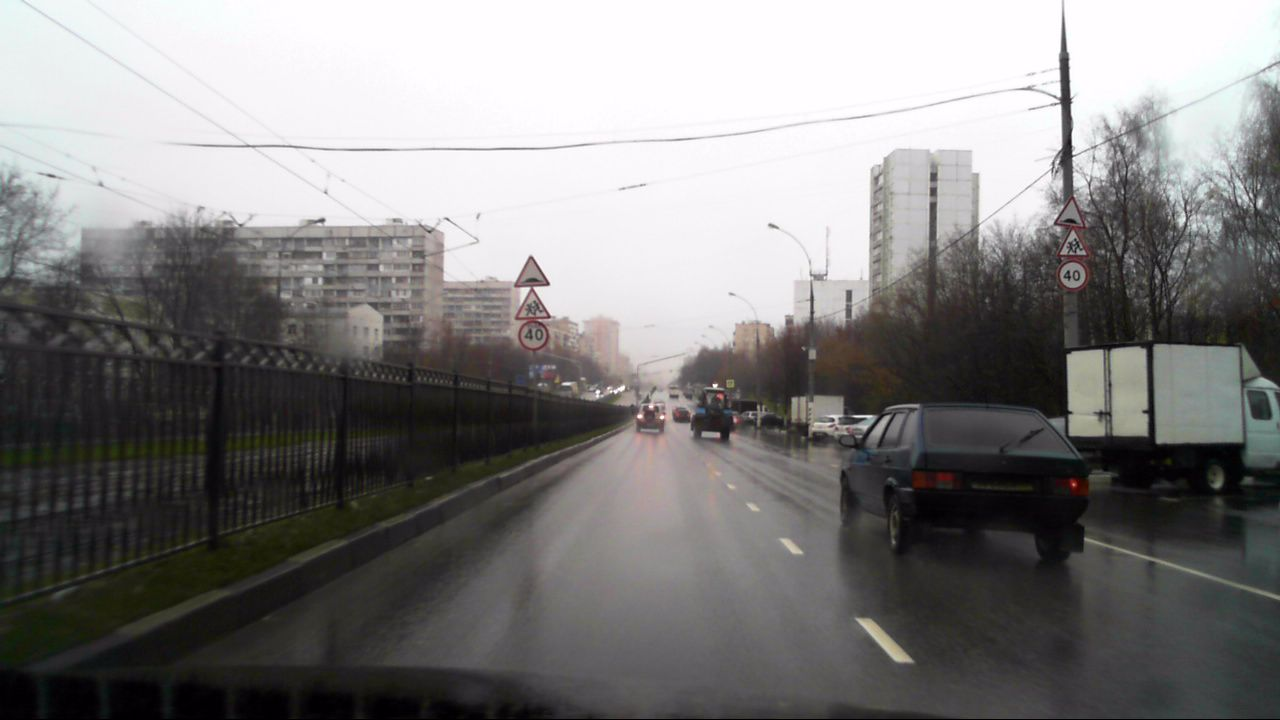speed_warning_40: (518, 321, 547, 350)
